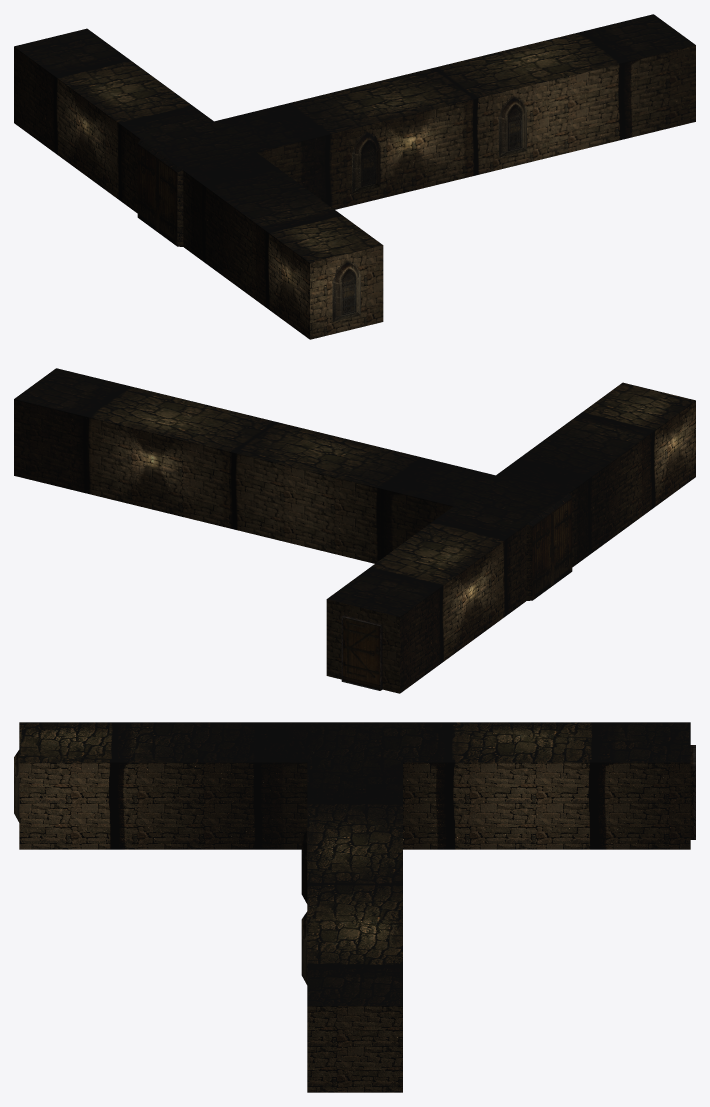
The model's file is corridor_bake2b.fbx.
3 views of the same model, one above another, from view 1: azimuth 30°, elevation 25°; view 2: azimuth 150°, elevation 25°; view 3: azimuth 270°, elevation 25° (orthographic). The views are drawn at different scales.
Visible parts, largest first — view 1: Corridor, celling; view 2: Corridor, celling; view 3: Corridor, celling.
Boxes of the visible parts, x1,y1,x2,y2 form: Corridor: [14, 45, 695, 339]; celling: [14, 14, 695, 262]; Corridor: [14, 399, 695, 693]; celling: [14, 368, 695, 616]; Corridor: [14, 745, 695, 1092]; celling: [19, 722, 690, 1005].
Bounding box in the file's own units: 1412 × 200 × 1422.
